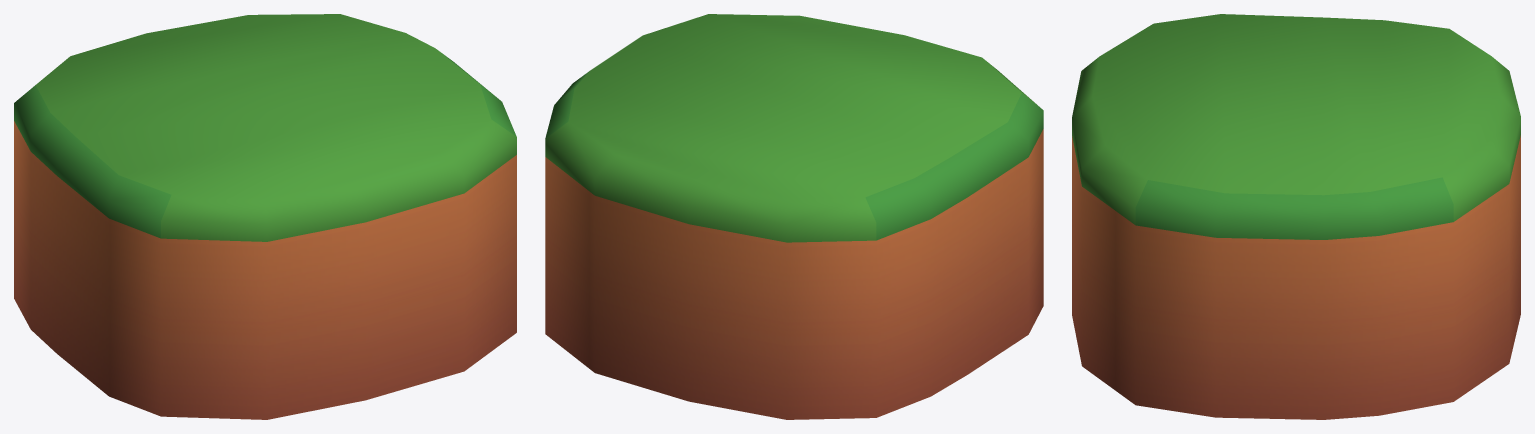
Rendered from Island 01.FBX.
3 views of the same model, side by side, from view 1: azimuth 30°, elevation 25°; view 2: azimuth 150°, elevation 25°; view 3: azimuth 270°, elevation 25° (orthographic).
Parts seen in each view (by area): view 1: Island 01; view 2: Island 01; view 3: Island 01.
Part boxes in pixels (left/top/right/bottom): Island 01: left=14, top=14, right=516, bottom=419; Island 01: left=545, top=14, right=1043, bottom=419; Island 01: left=1072, top=14, right=1520, bottom=419.
Size of the model in its own units: 589 by 300 by 566.
Materials: 1 (1 with a texture image).
